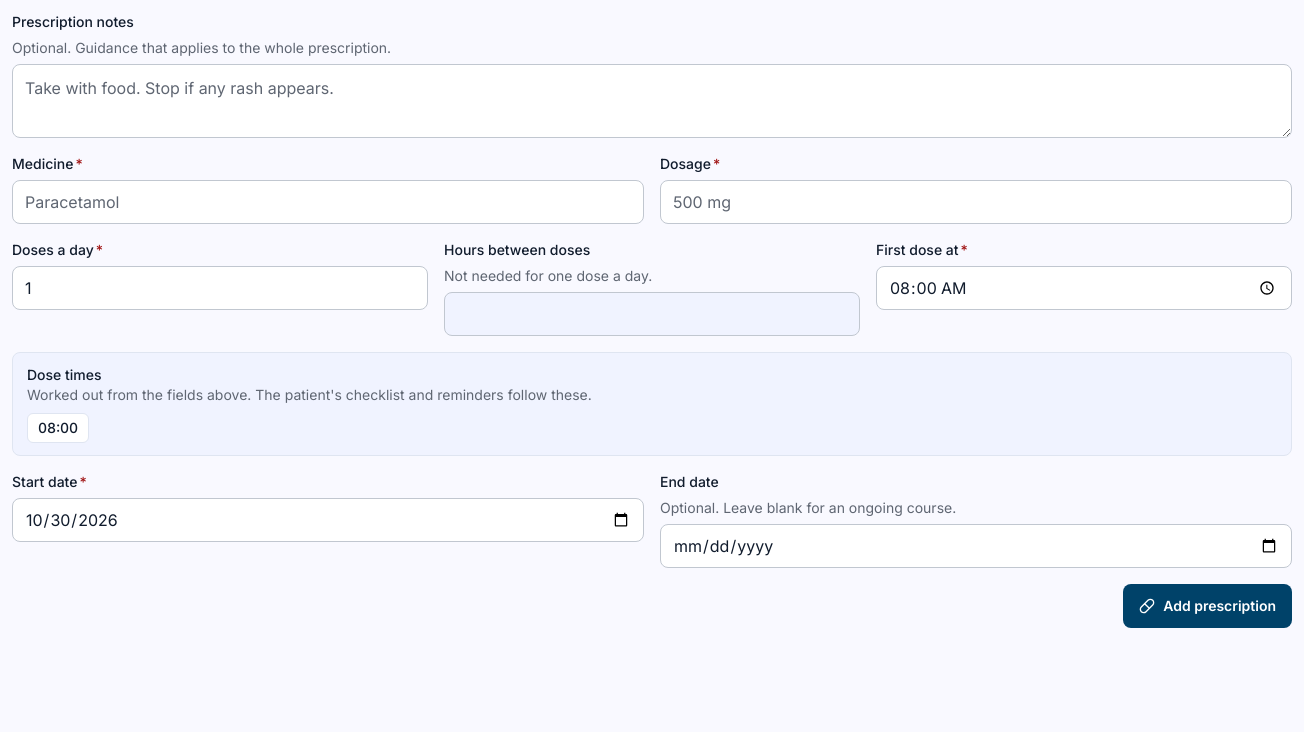
issuing a prescription and its schedule (modules 4.3 and 4.1) › refuses a medicine with no name or dosage
Click the button "Add prescription" at (1208, 606), box 1123,584 -> 1292,628
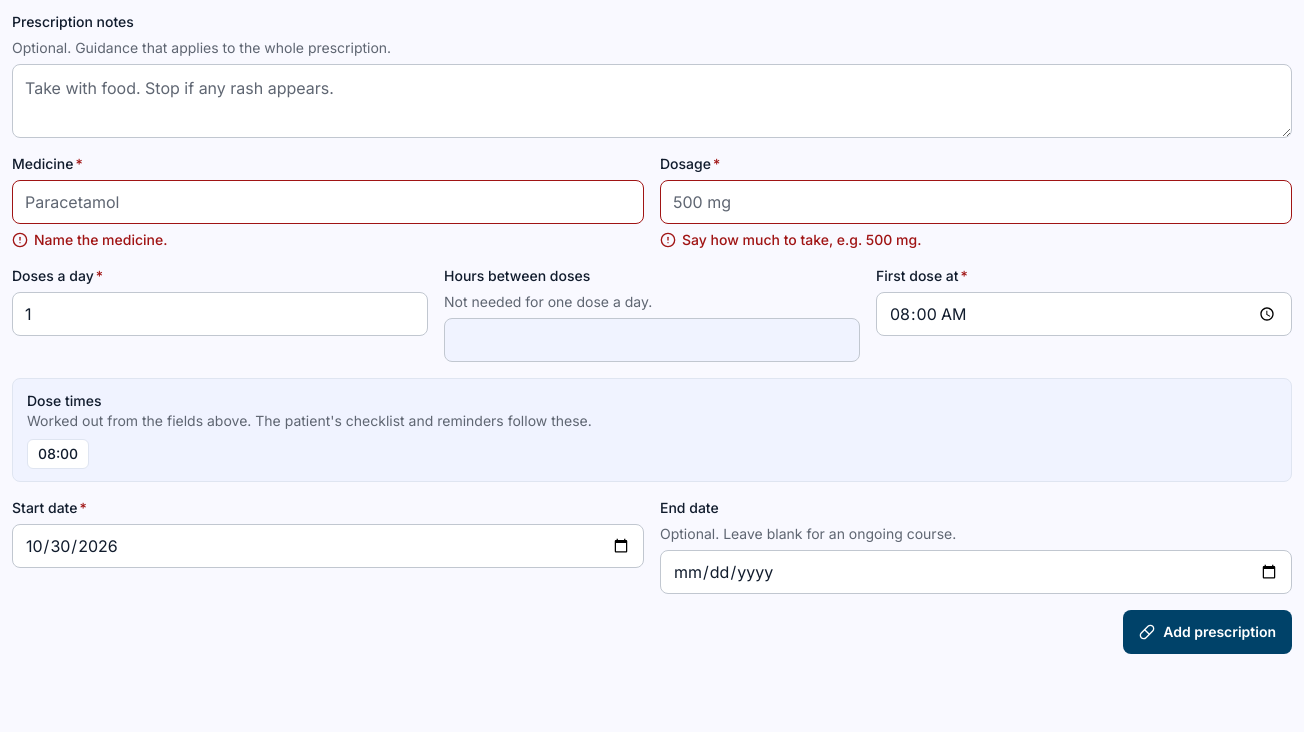
Expected: the text "Name the medicine." is shown, 12,231 -> 167,248
Expected: the text "Say how much to take, e.g. 500 mg." is shown, 660,231 -> 921,248
